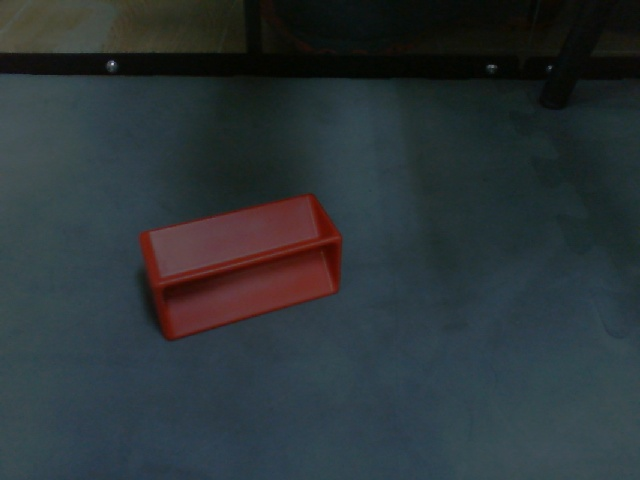RedSample: (137, 190, 345, 344)
